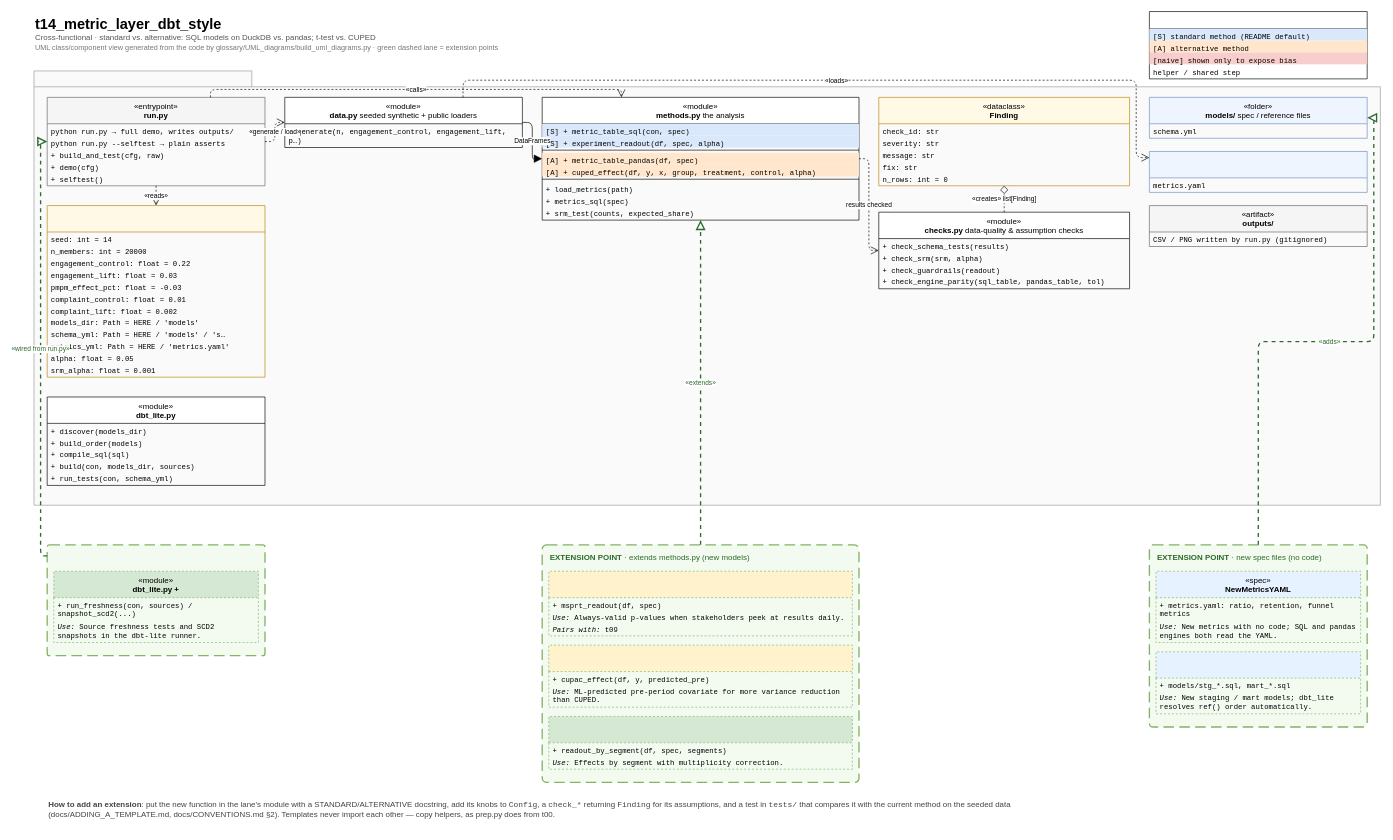
This 1393x840 diagram has some shape labels left out. The box of each missing label's shape, as (x1, y1, x2, y2) in pixels:
EXTENSION POINT · new module in package: (46, 544, 265, 656)
Legend: (1149, 11, 1367, 79)
package metric_layer_dbt_style (templates/t14_metric_layer_dbt_style): (33, 70, 1380, 505)
«alternative» CUPAC: (548, 644, 852, 707)
«alternative» SequentialTesting: (548, 571, 852, 636)
«dataclass» Config (config.py): (47, 205, 265, 377)
«files» template root specs: (1149, 151, 1367, 192)
«model» SegmentReadout: (548, 716, 852, 769)
«spec» NewDbtModels: (1155, 651, 1361, 714)
